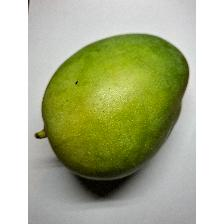Mango: (34, 23, 190, 182)
